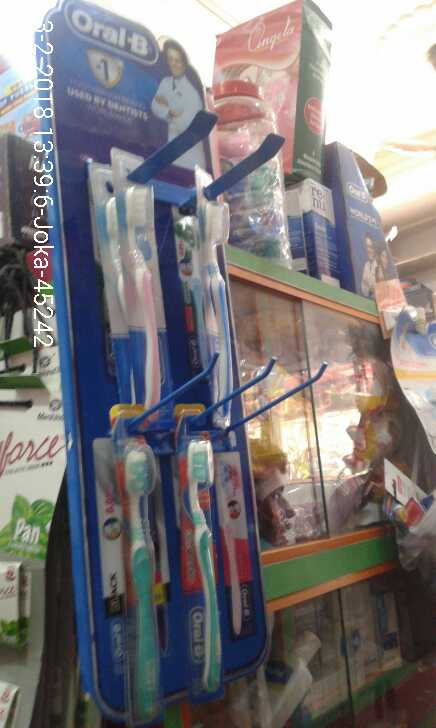oralb: (117, 151, 170, 423), (182, 427, 233, 695), (116, 434, 163, 723), (193, 172, 239, 426)
